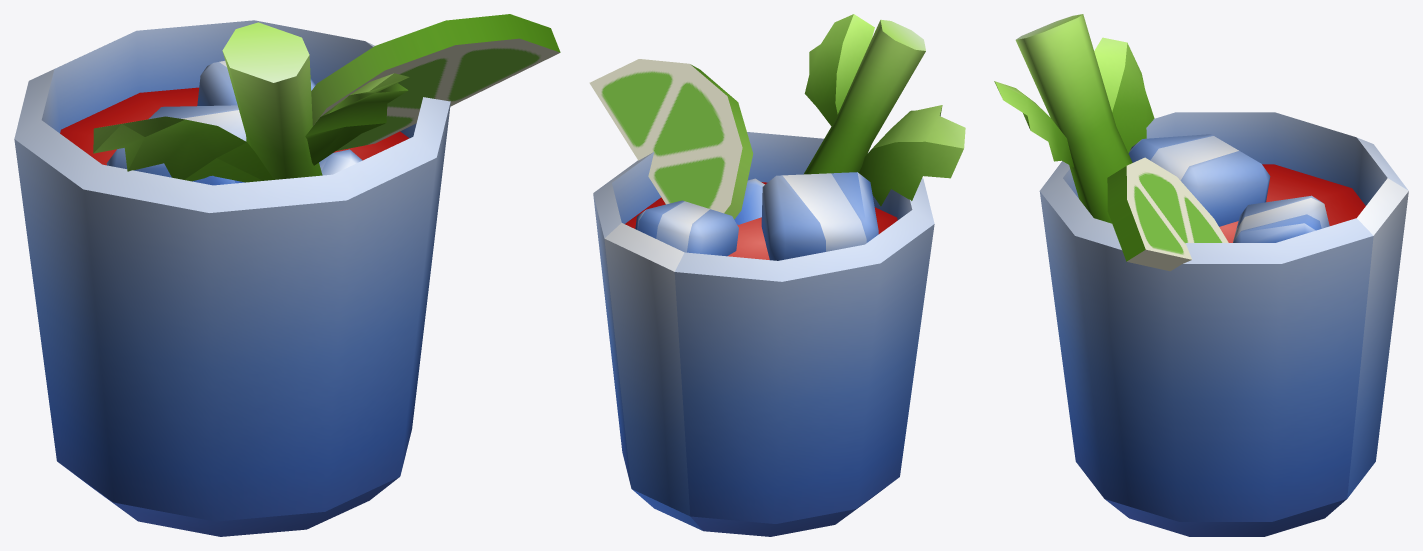
File: m_BloodyMary01.fbx
3 renders of one model, left to right at view 1: azimuth 30°, elevation 25°; view 2: azimuth 150°, elevation 25°; view 3: azimuth 270°, elevation 25°, orthographic. The views are drawn at different scales.
Parts seen in each view (by area): view 1: m_BloodyMary01; view 2: m_BloodyMary01; view 3: m_BloodyMary01.
Part boxes in pixels (x1=…): m_BloodyMary01: x1=14, y1=14, x2=560, y2=536; m_BloodyMary01: x1=589, y1=14, x2=965, y2=536; m_BloodyMary01: x1=994, y1=14, x2=1408, y2=536.
Bounding box in the file's own units: 15.72 × 17.19 × 14.59.
